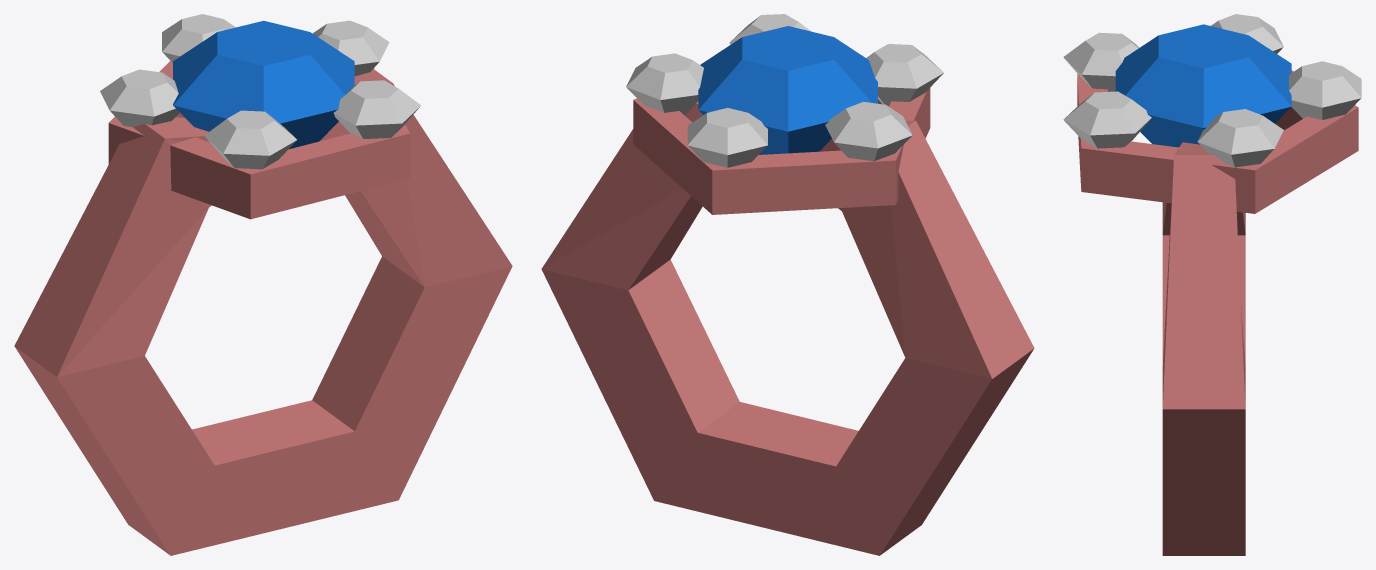
Rendered from SM_ring_1.fbx.
The picture shows the model from 3 angles, left to right: view 1: azimuth 30°, elevation 25°; view 2: azimuth 150°, elevation 25°; view 3: azimuth 270°, elevation 25°; orthographic projection. The views are drawn at different scales.
Visible parts, largest first — view 1: Tube_5; view 2: Tube_5; view 3: Tube_5.
Part boxes in pixels (x1=…): Tube_5: x1=14, y1=14, x2=512, y2=555; Tube_5: x1=541, y1=14, x2=1034, y2=555; Tube_5: x1=1063, y1=14, x2=1361, y2=555.
Size of the model in its own units: 3.39 by 3.33 by 1.98.
